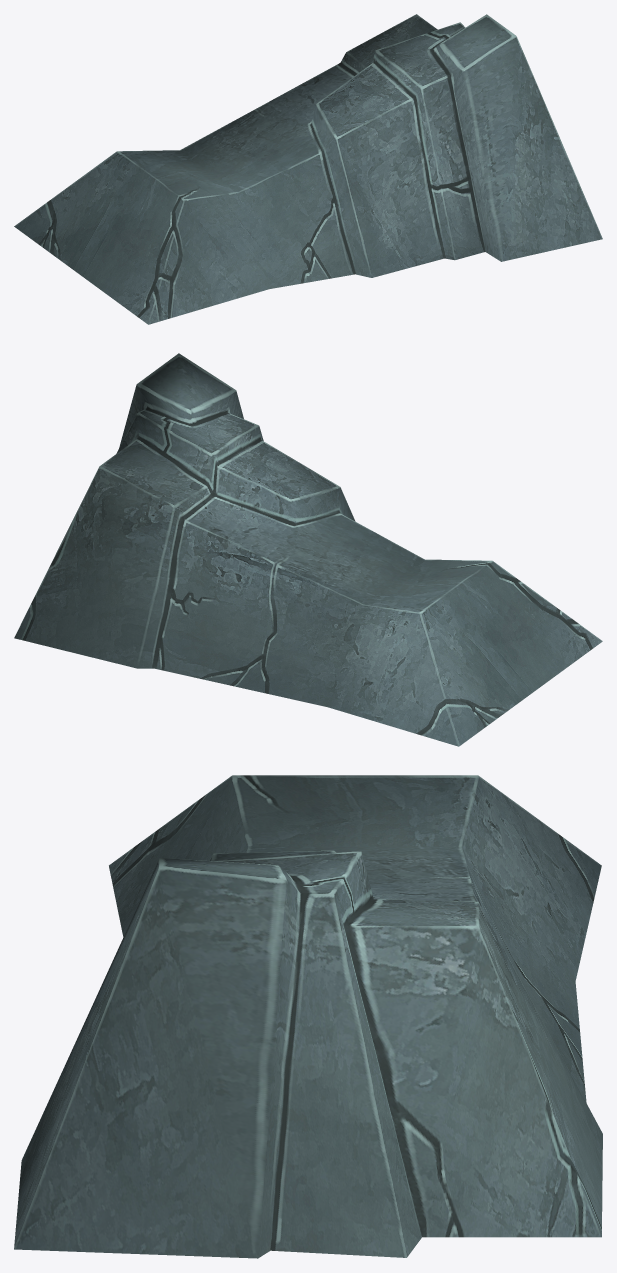
Rendered from Rock_8.fbx.
3 renders of one model, top to bottom at view 1: azimuth 30°, elevation 25°; view 2: azimuth 150°, elevation 25°; view 3: azimuth 270°, elevation 25°, orthographic. The views are drawn at different scales.
Parts seen in each view (by area): view 1: pPlane8; view 2: pPlane8; view 3: pPlane8.
Part boxes in pixels (left/top/right/bottom): pPlane8: left=14, top=14, right=602, bottom=324; pPlane8: left=14, top=353, right=602, bottom=746; pPlane8: left=14, top=775, right=602, bottom=1258.
Size of the model in its own units: 7.42 by 3 by 4.7.
